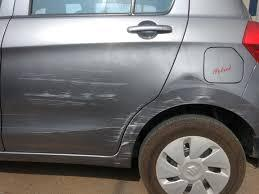scratch: (8, 65, 228, 174)
